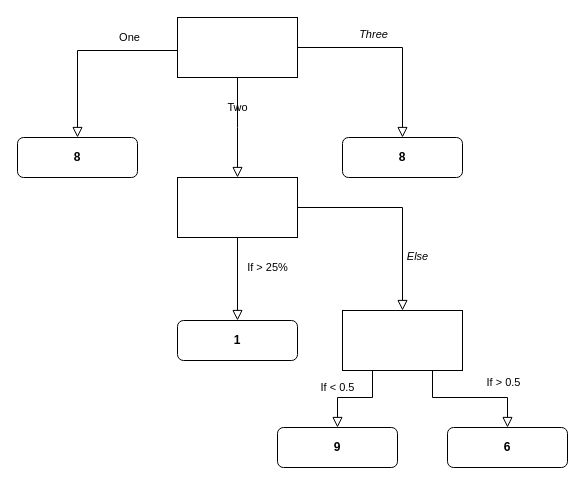
Image size: 585x485. Some labels were removed from this diagram. The shapes that lost their labels are listed below. From the top down, each one's centre as x and y in pixels, then its label:
At [237,47]: "Number of contours".
At [237,207]: "Percentage of innerArea to totalArea".
At [402,340]: "Value of ycentroid to maxycoord".
